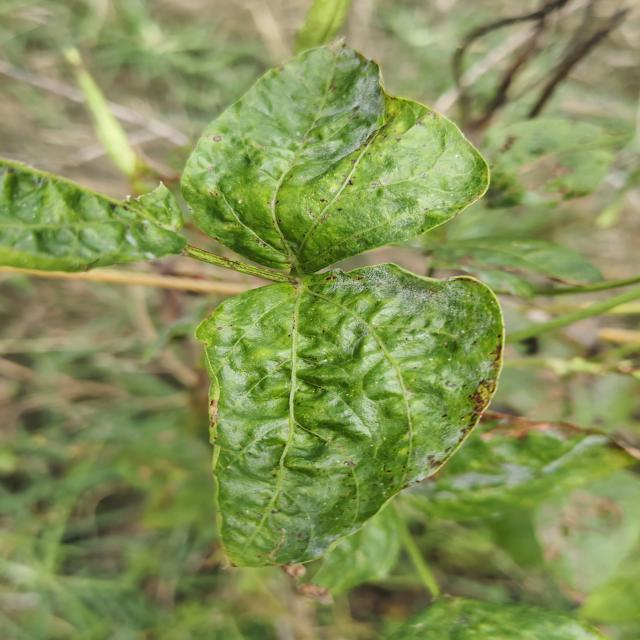leaf-low: (0, 158, 274, 296)
sitaw-aphid-high: (195, 263, 505, 567), (181, 40, 489, 277)
